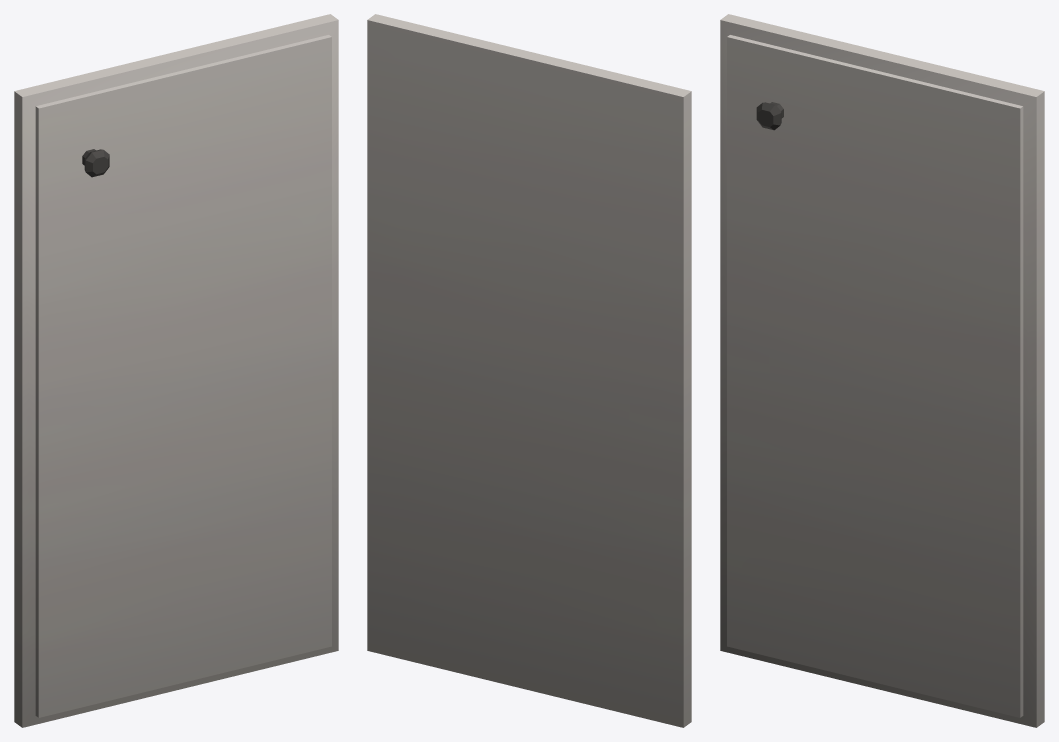
Rendered from Door_SinkBase_Right.fbx.
3 views of the same model, side by side, from view 1: azimuth 30°, elevation 25°; view 2: azimuth 150°, elevation 25°; view 3: azimuth 330°, elevation 25° (orthographic).
Parts seen in each view (by area): view 1: Door_SinkBase_Right; view 2: Door_SinkBase_Right; view 3: Door_SinkBase_Right.
Part boxes in pixels (x1=…): Door_SinkBase_Right: x1=14, y1=14, x2=338, y2=727; Door_SinkBase_Right: x1=367, y1=14, x2=691, y2=727; Door_SinkBase_Right: x1=720, y1=14, x2=1044, y2=727.
Size of the model in its own units: 38.54 by 73.43 by 5.15.
